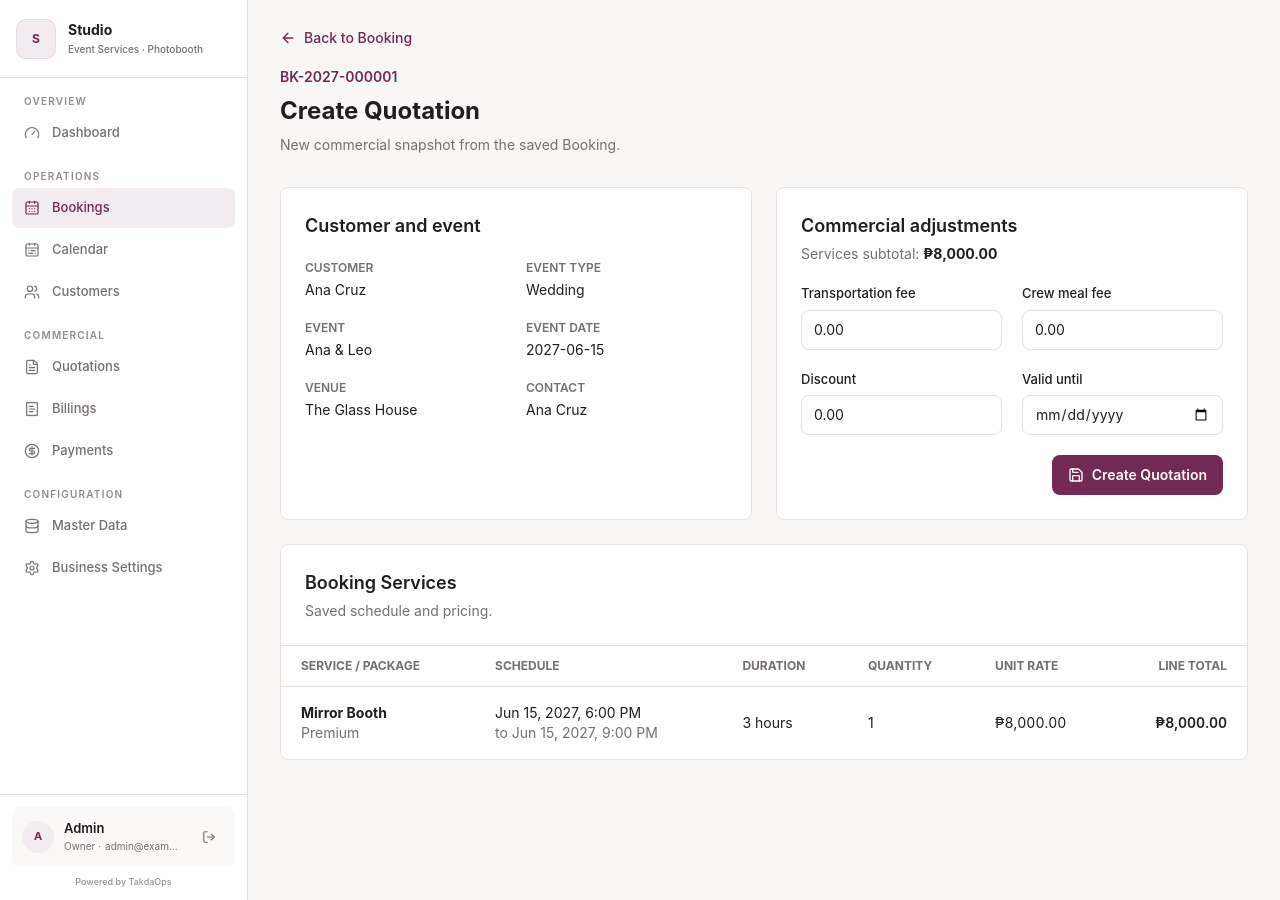
creates a Draft from read-only Booking data and navigates to its detail
Expected: the heading "Create Quotation" is shown, [280,96,480,125]
Expected: the text "Mirror Booth" is shown, [301,704,387,721]
Step 1. Replace the text in the field labelled "Transportation fee" with "250.25" → [902, 330], box [801,310,1002,350]
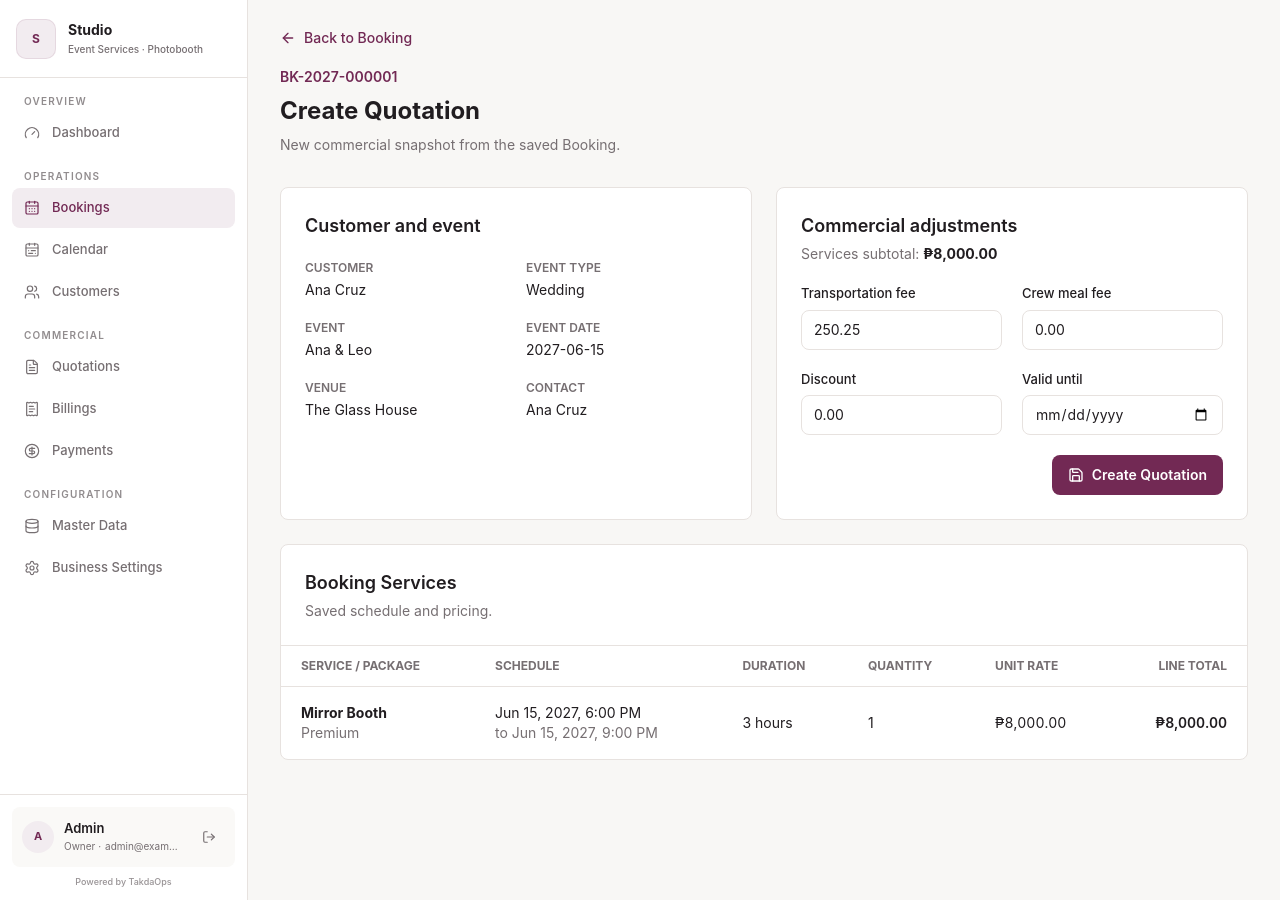
Step 2. Replace the text in the field labelled "Crew meal fee" with "125.00" → [1122, 330], box [1022,310,1223,350]
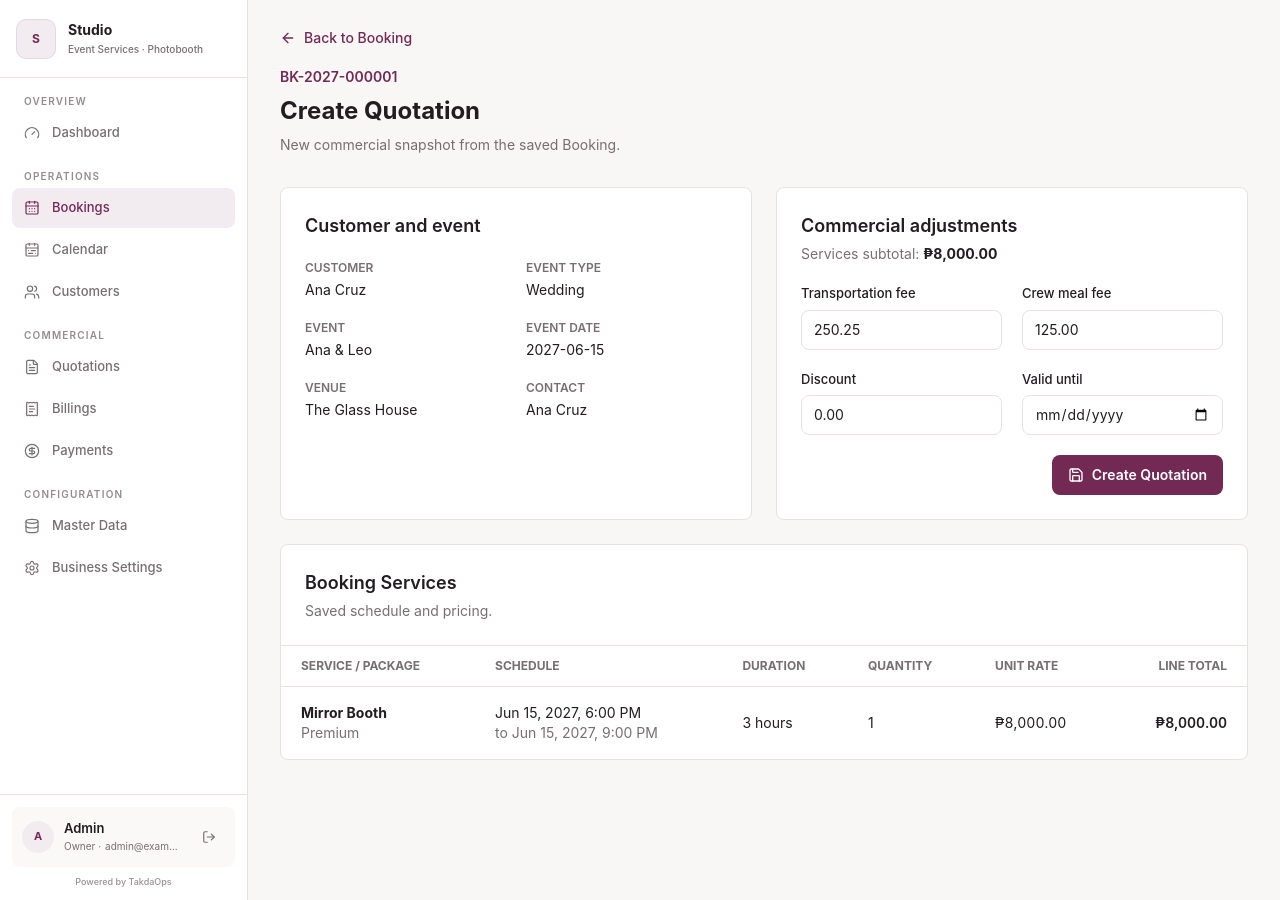
Step 3. Replace the text in the field labelled "Discount" with "250.00" → [902, 415], box [801,395,1002,435]
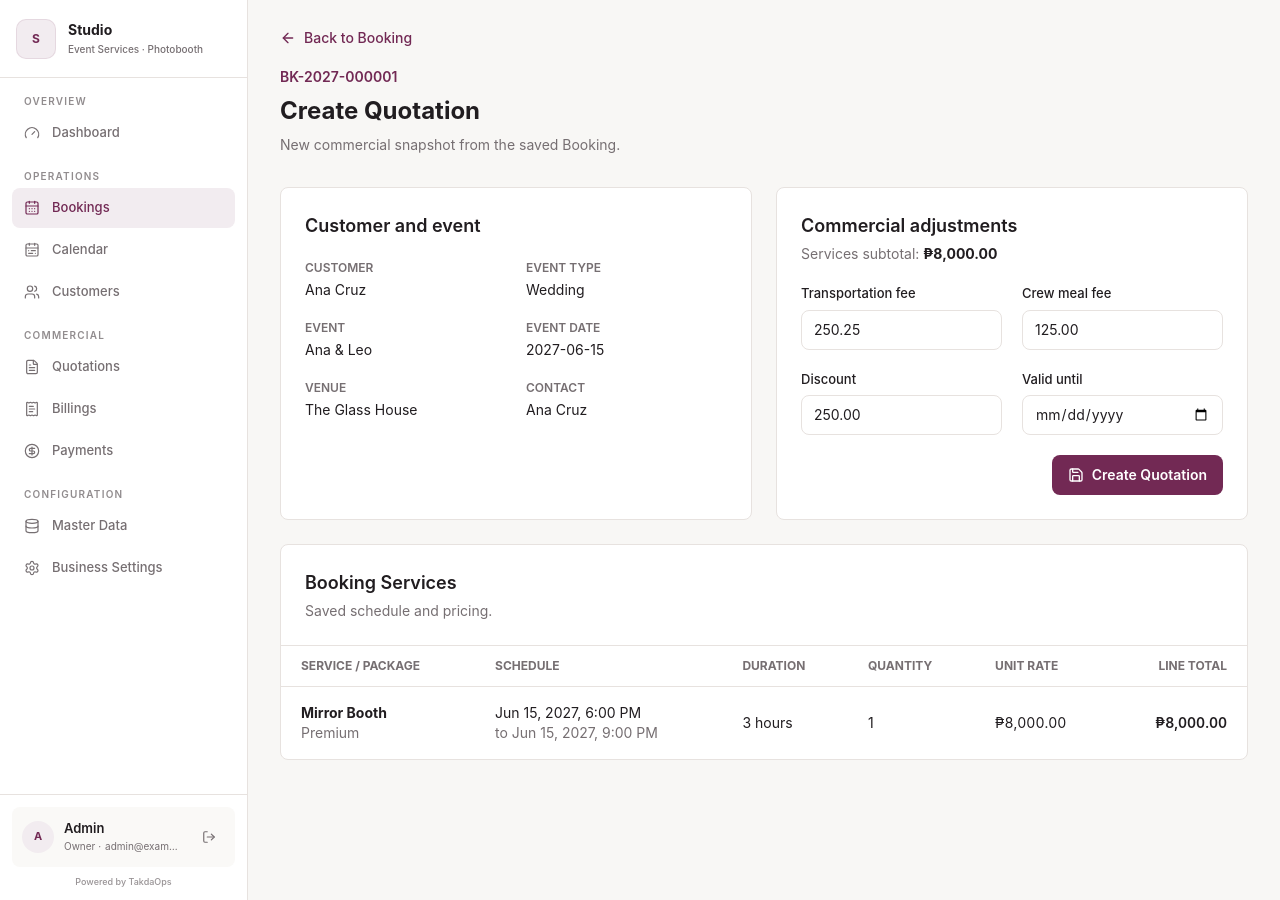
Step 4. Type "2027-06-30" into the date field labelled "Valid until" → [1122, 415], box [1022,395,1223,435]
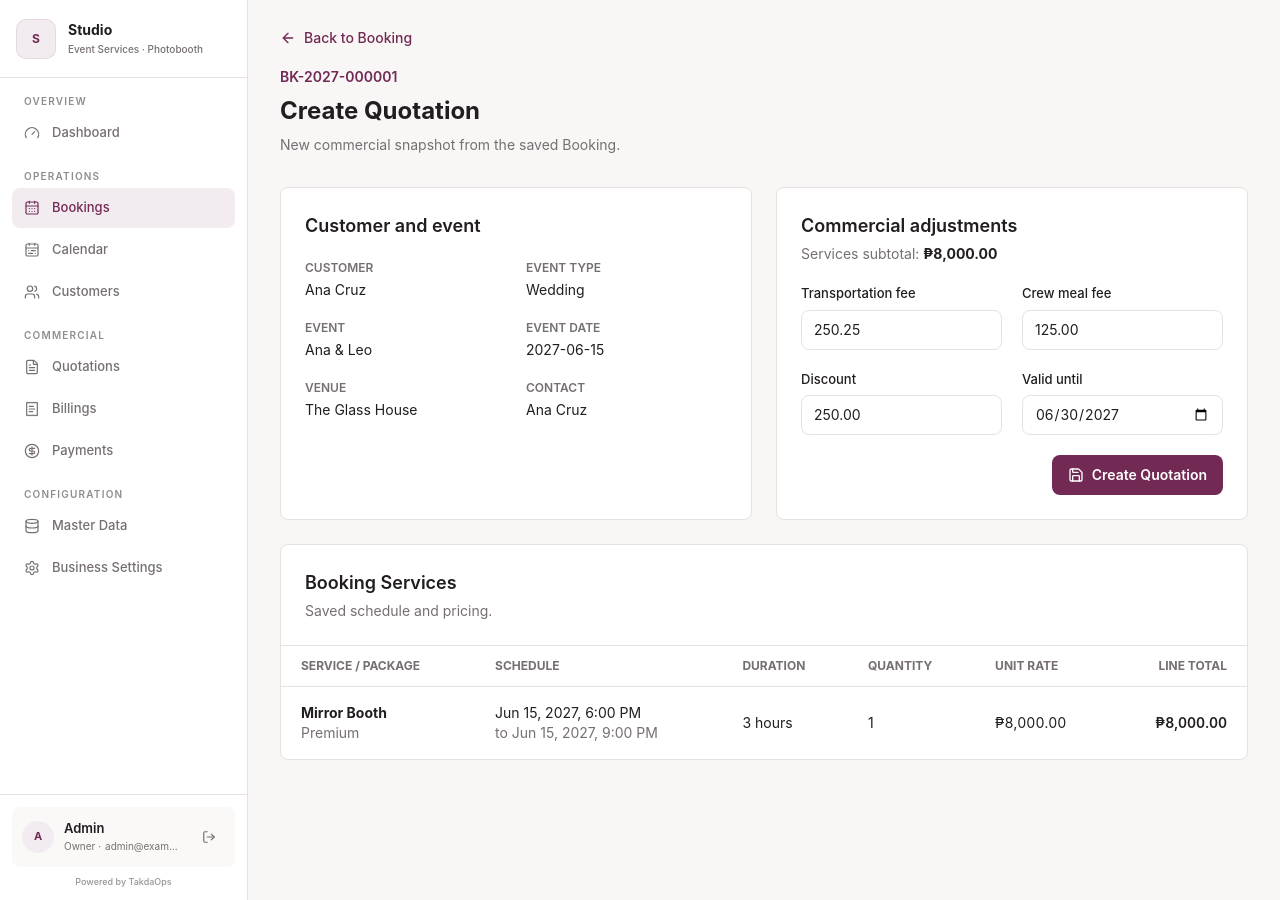
Step 5. Click the button "Create Quotation" → [1137, 475], box [1052,455,1223,495]
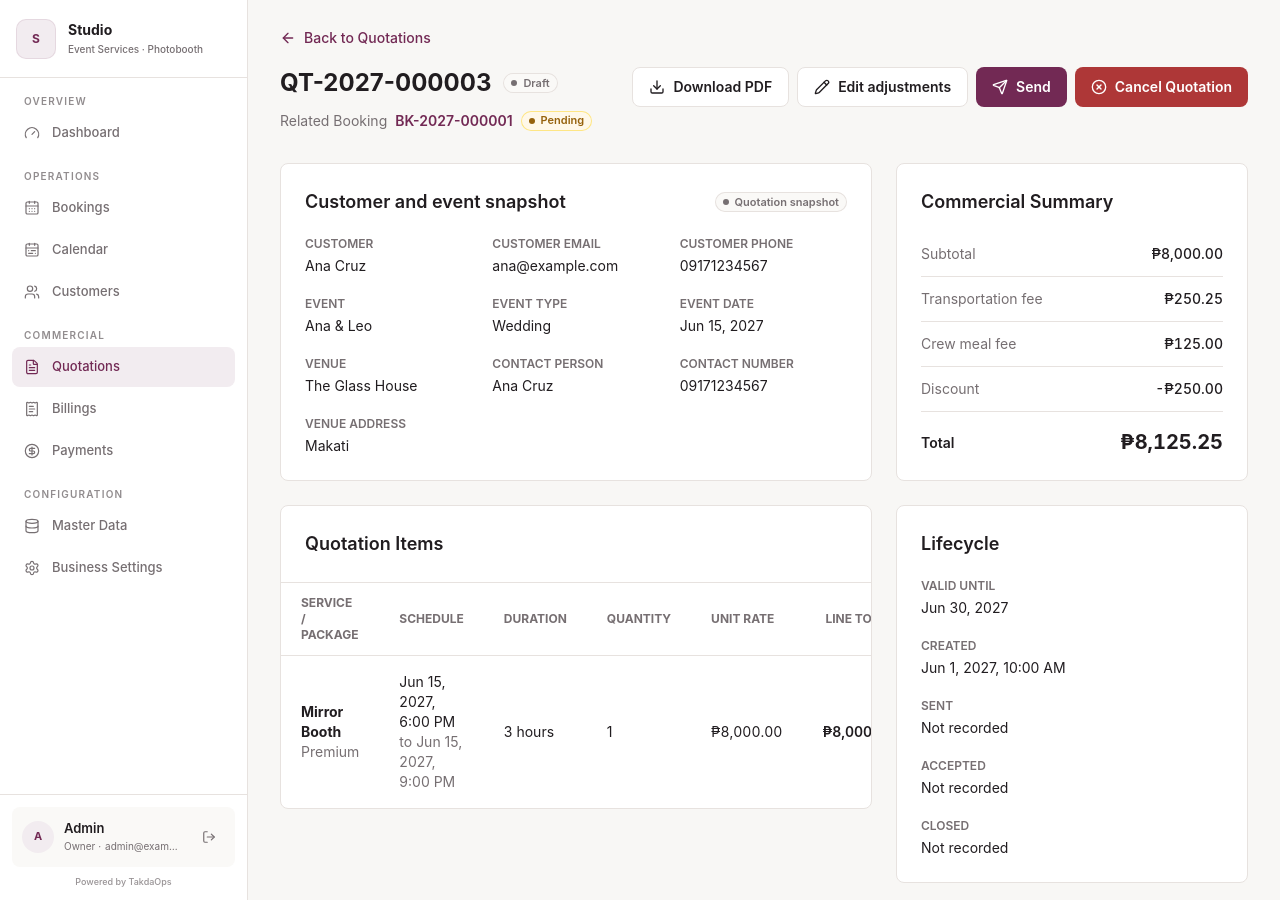
Now the heading "QT-2027-000003" is shown, box [280,67,491,99]
